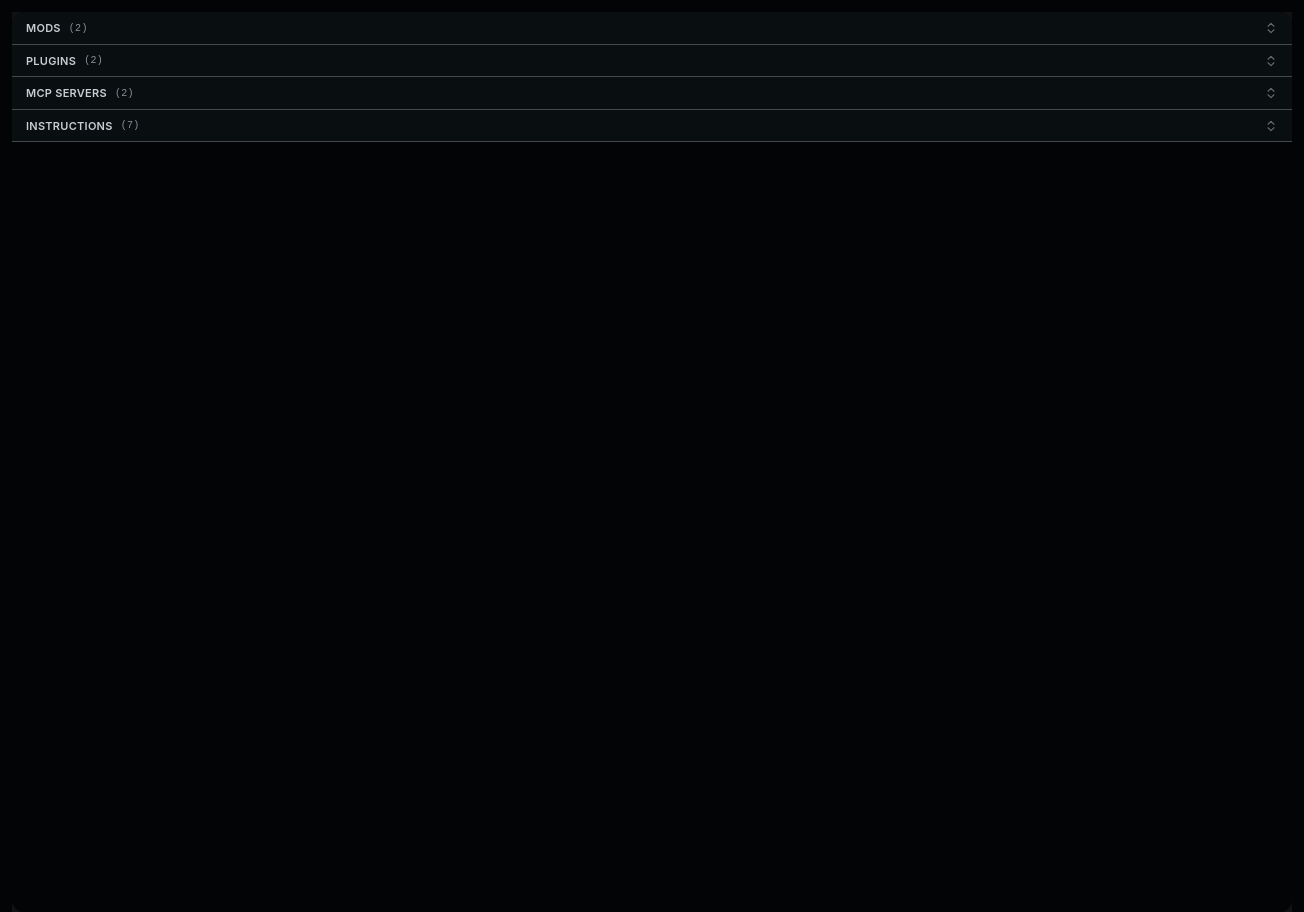
SessionContextPanel › shows a mod's pinned status line
Click the button "Mods (2)" at (43, 28), box x1=12 y1=12 x2=1292 y2=44
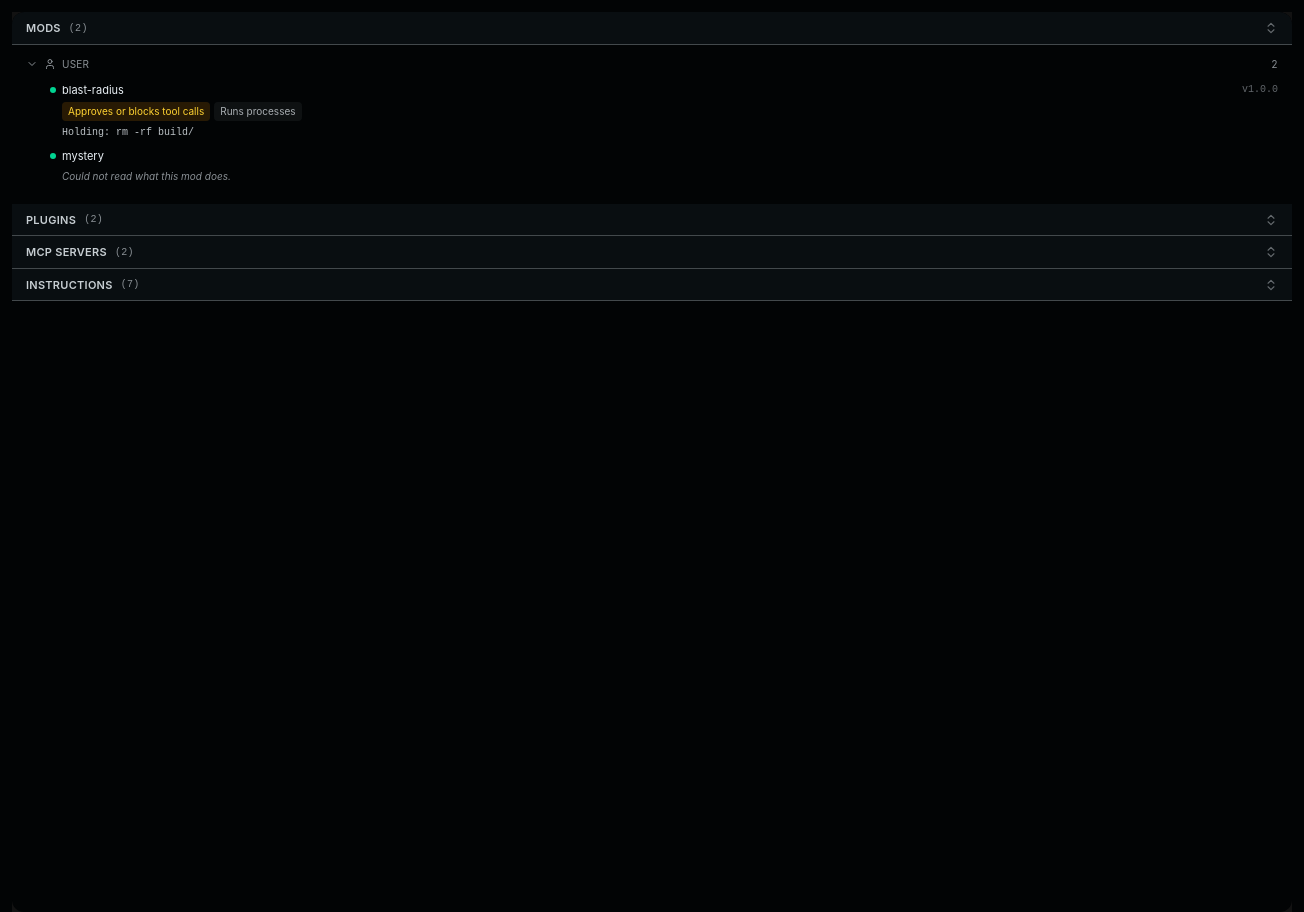
Check: the text "Holding: rm -rf build/" is shown, box x1=62 y1=127 x2=194 y2=138
